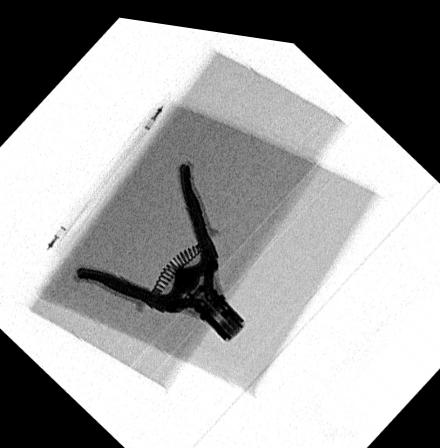Pliers: (72, 157, 245, 339)
